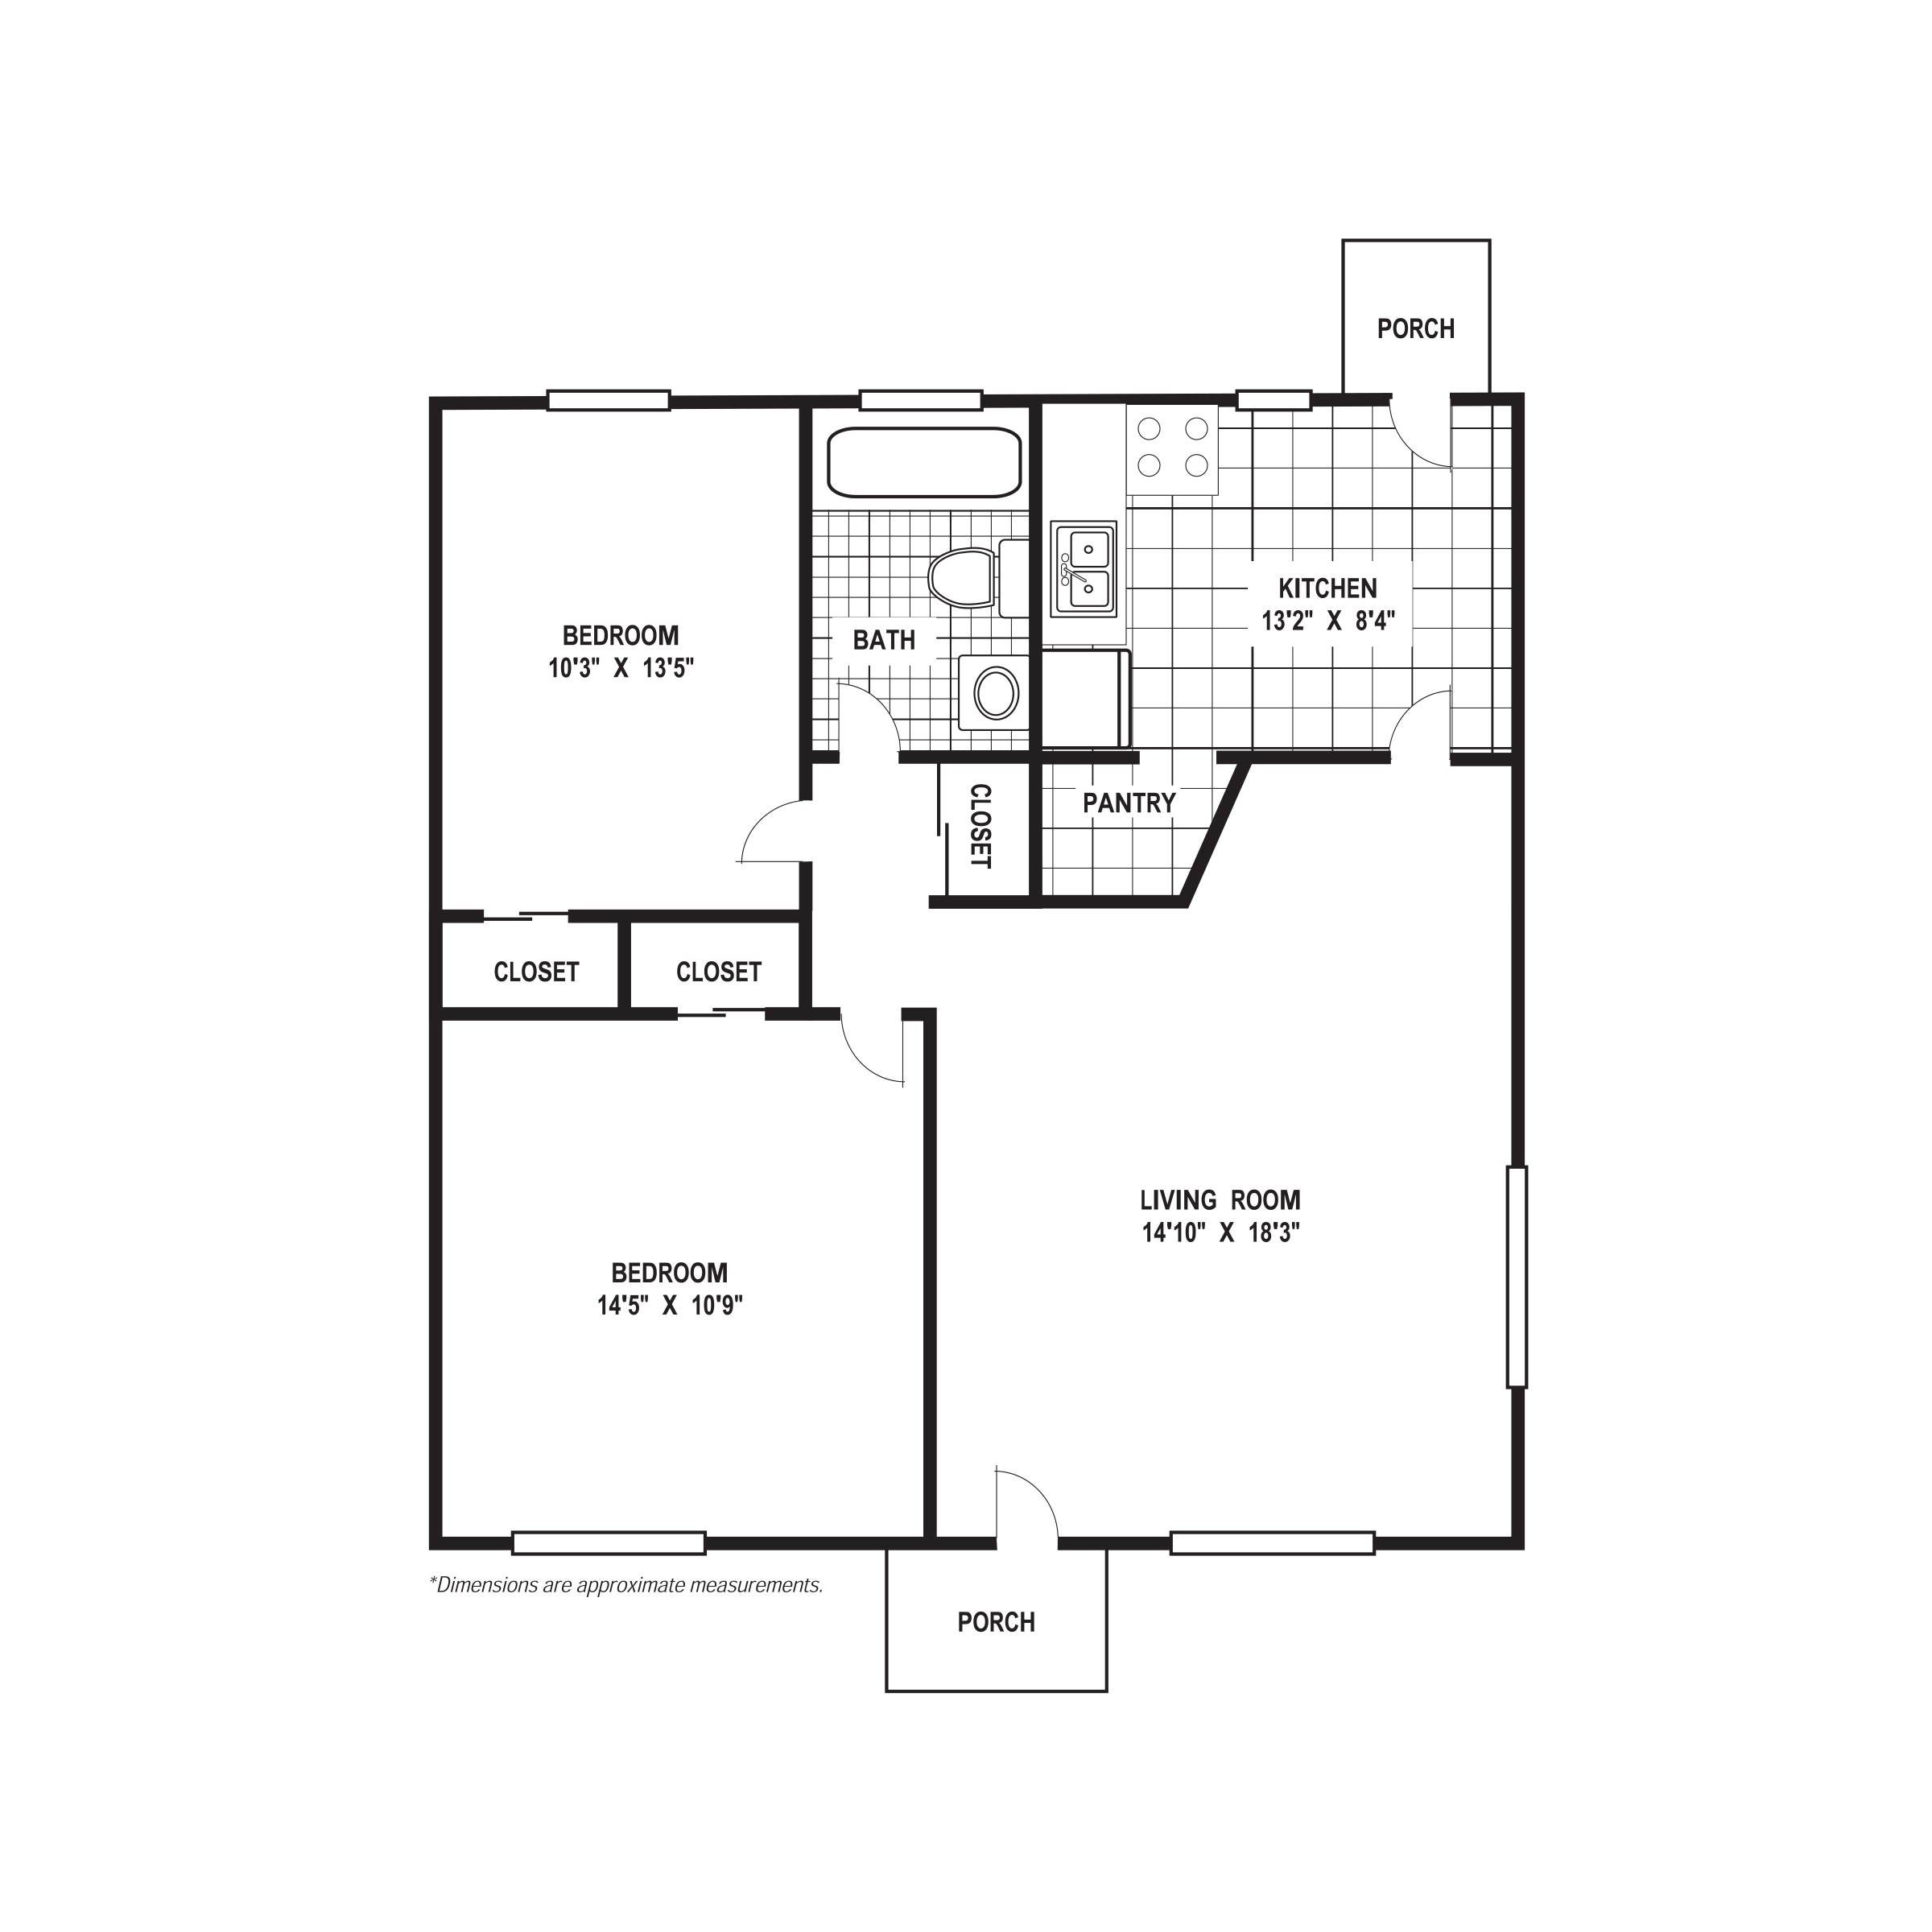door: (989, 1467, 1063, 1539), (837, 1019, 911, 1090), (738, 798, 803, 869)
